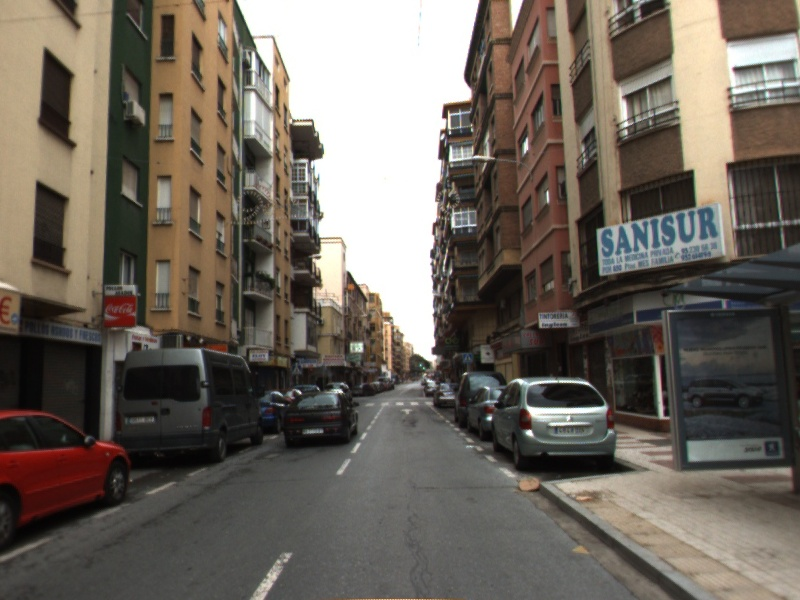STRAIGHT: (399, 406, 416, 416)
